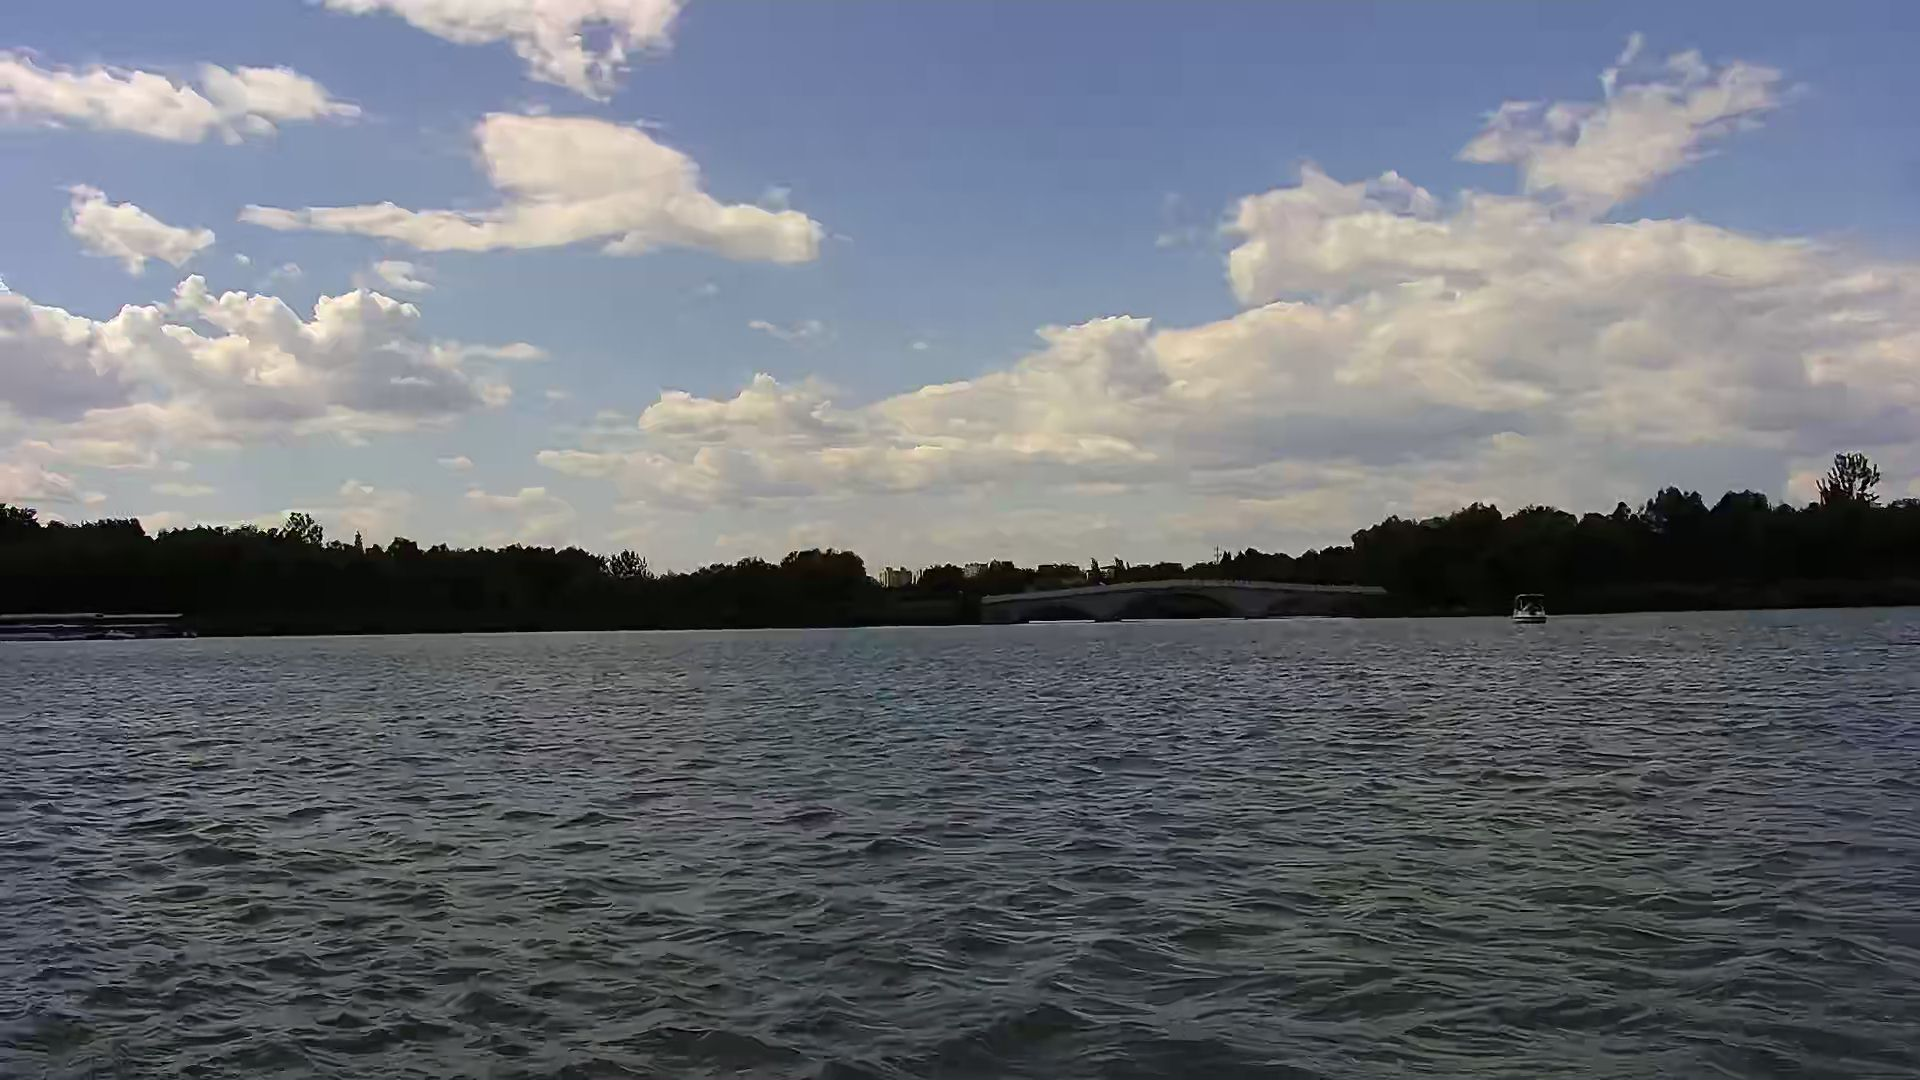boat: (1509, 585, 1556, 630)
bridge: (971, 578, 1400, 626)
